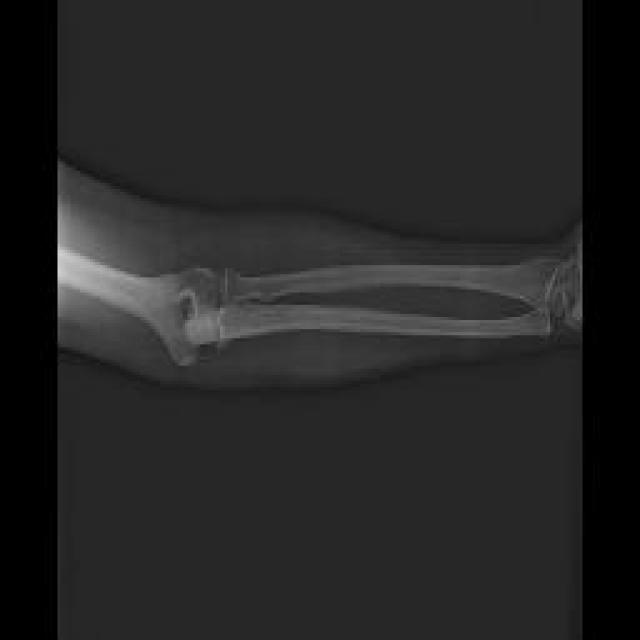normal: (59, 249, 581, 365)
